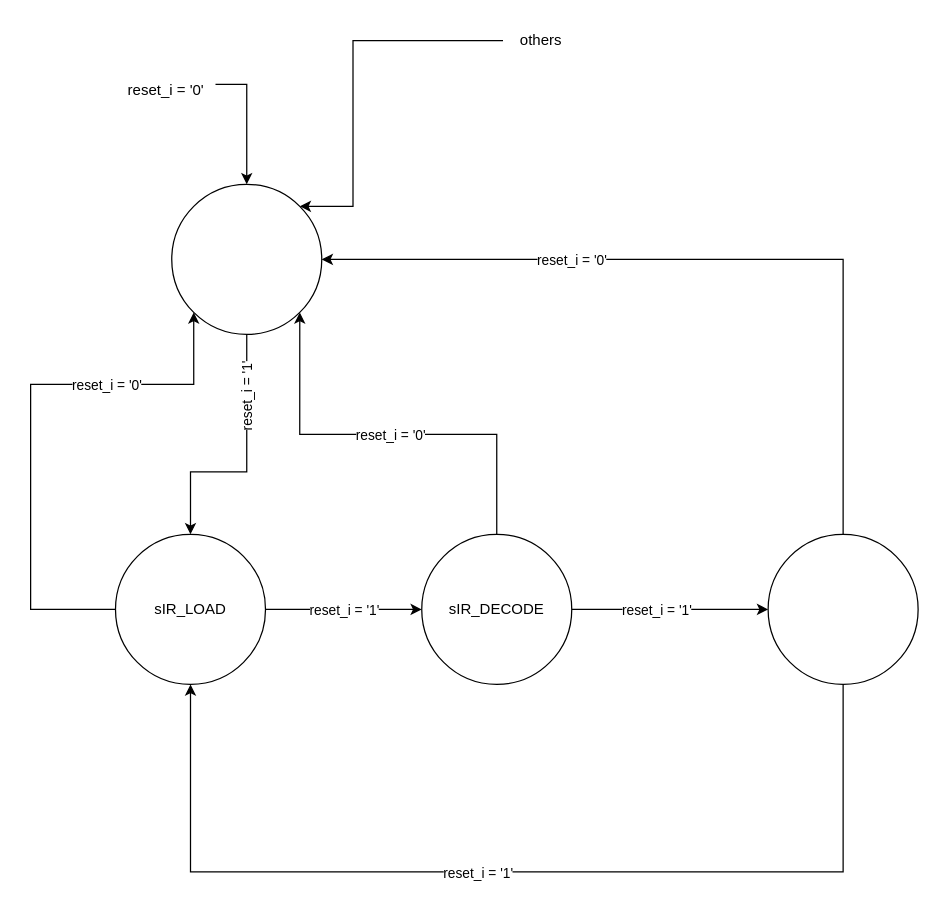
This 940x904 diagram has some shape labels left out. The shapes that lost their labels are listed below. From the top down, each one's box as (x1, y1, x2, y2) in pixels, then its label:
(170, 183, 322, 334): sRESET
(767, 533, 918, 684): sOPCODE_DECODE
